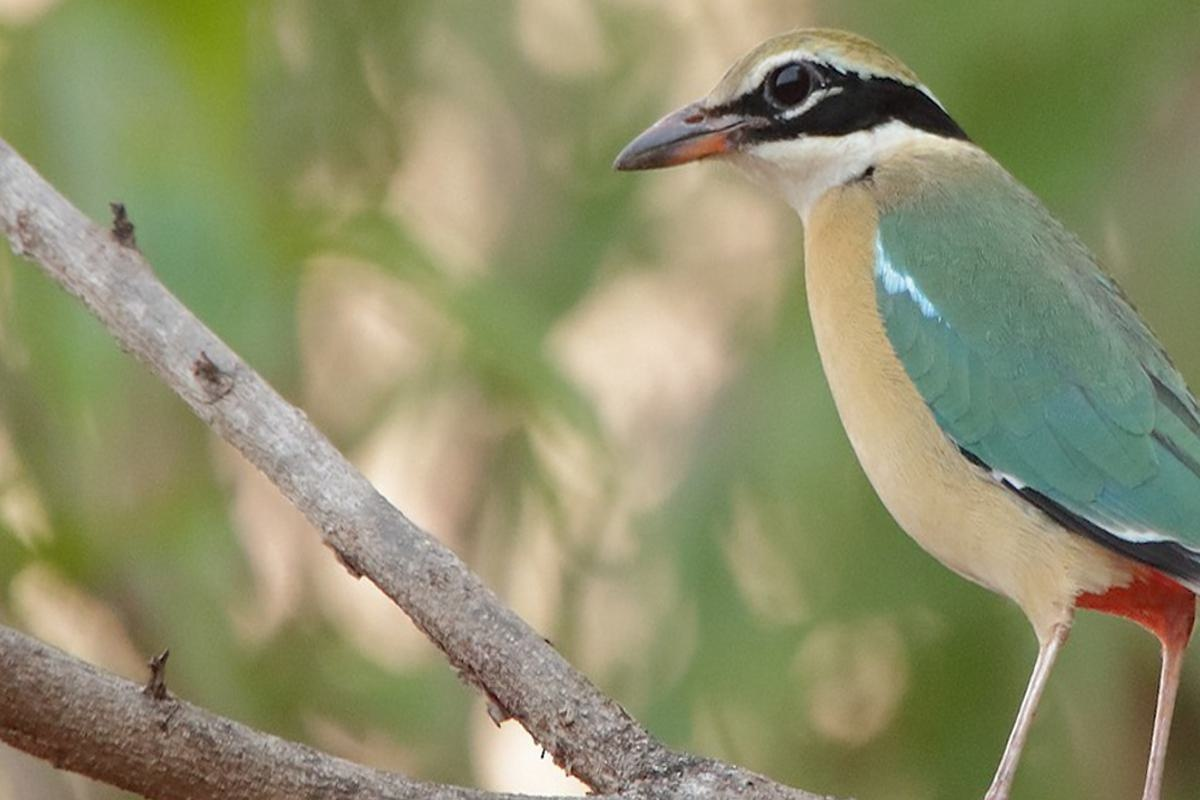pitta: (614, 14, 1200, 800)
